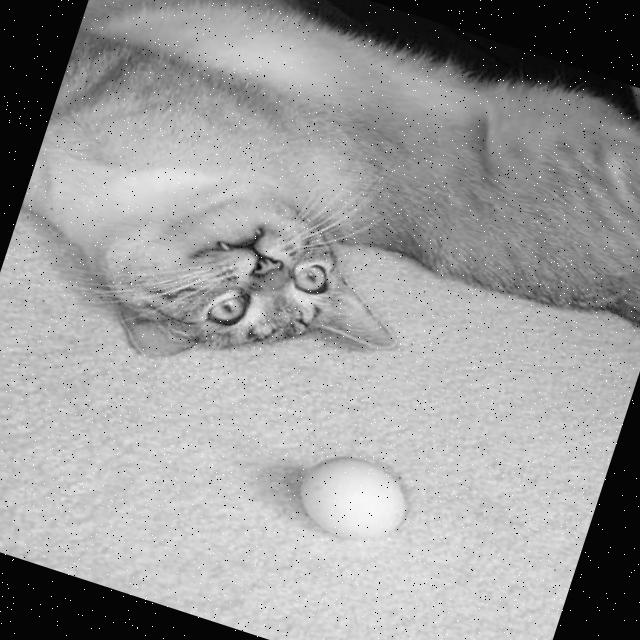ping-pong-ball: (286, 440, 416, 552)
